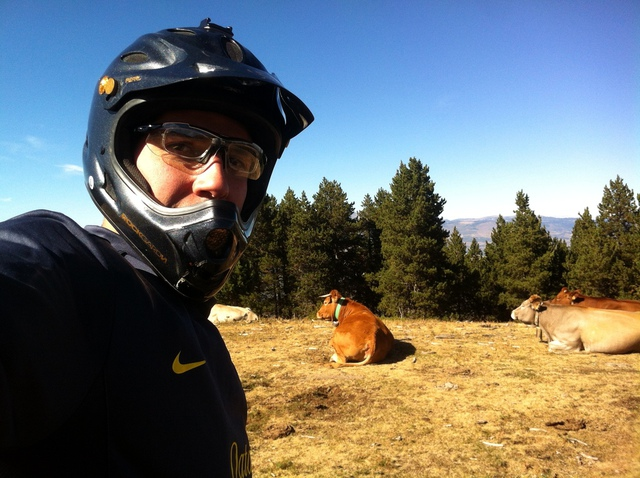helmet: (90, 37, 305, 286)
